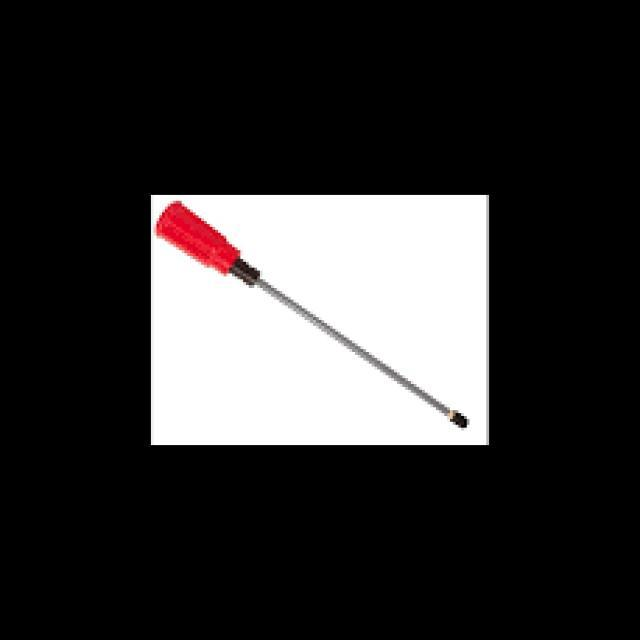screwdriver: (155, 199, 474, 432)
